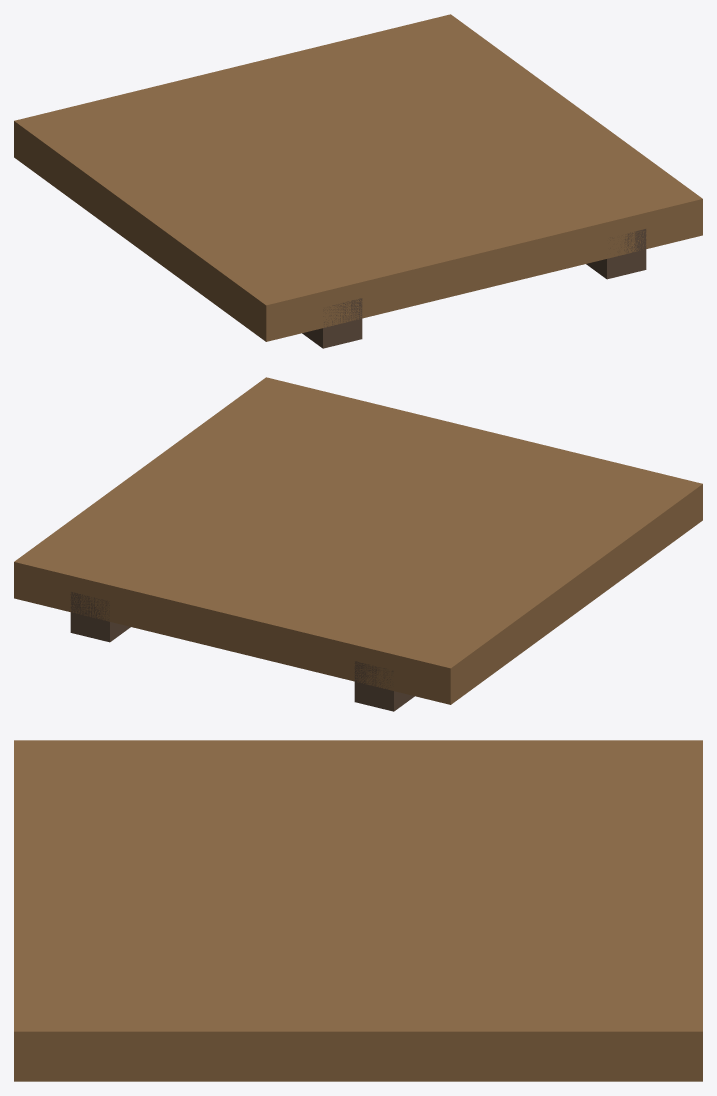
File: architecture-village-ceiling.lod0.glb
3 views of the same model, one above another, from view 1: azimuth 30°, elevation 25°; view 2: azimuth 150°, elevation 25°; view 3: azimuth 270°, elevation 25° (orthographic). The views are drawn at different scales.
Visible parts, largest first — view 1: architecture-village-ceiling__body; view 2: architecture-village-ceiling__body; view 3: architecture-village-ceiling__body.
Boxes of the visible parts, bbox=[...] form: architecture-village-ceiling__body: bbox=[14, 14, 702, 348]; architecture-village-ceiling__body: bbox=[14, 377, 702, 711]; architecture-village-ceiling__body: bbox=[14, 740, 702, 1081].
Bounding box in the file's own units: 2 × 0.25 × 2.
